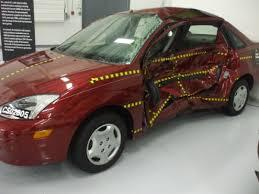Front-Windscreen-Damage: (78, 11, 147, 60)
doorouter-dent: (146, 22, 185, 125), (191, 18, 234, 108)
roof-dent: (150, 3, 213, 18)
